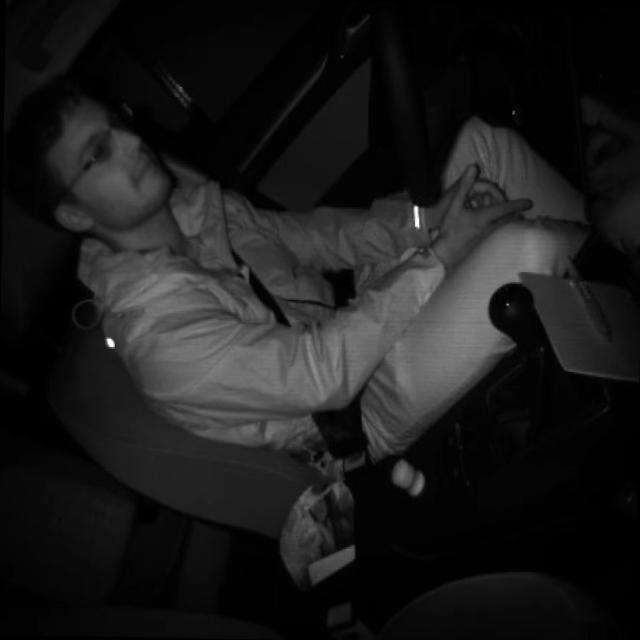pen: (560, 245, 617, 348)
